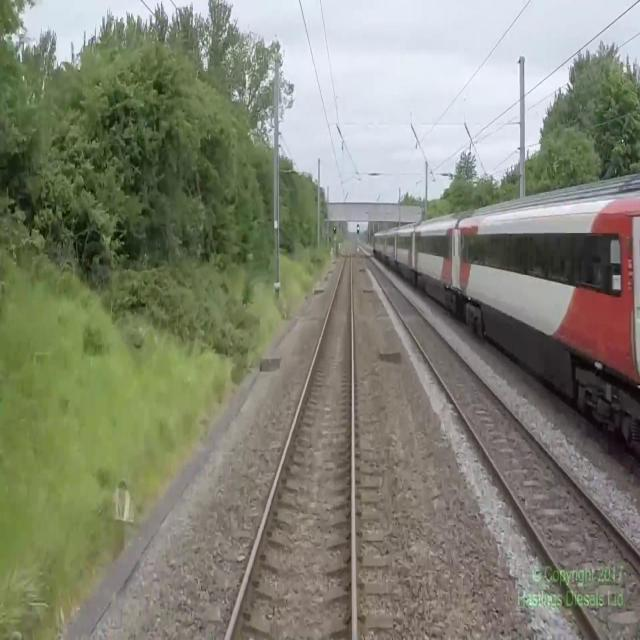rail-track: (359, 247, 640, 639), (229, 243, 351, 639)
